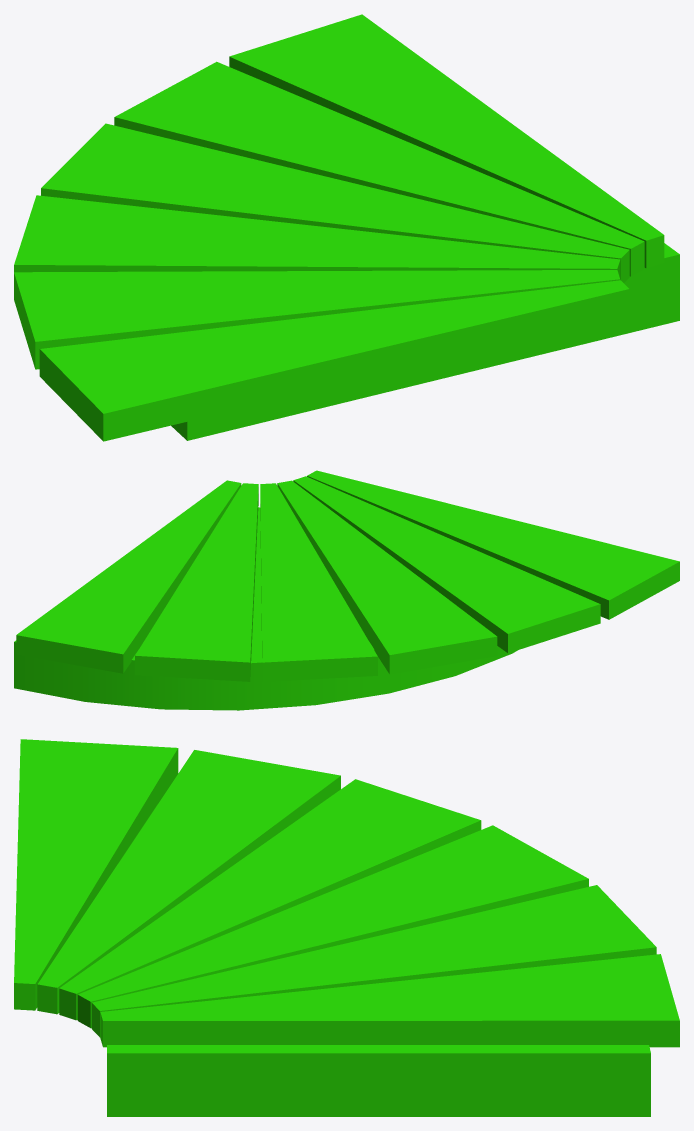
Rendered from Conveyor_Belt_01_Turn_Lod0.fbx.
3 views of the same model, one above another, from view 1: azimuth 30°, elevation 25°; view 2: azimuth 150°, elevation 25°; view 3: azimuth 270°, elevation 25° (orthographic). The views are drawn at different scales.
Visible parts, largest first — view 1: Conveyor_Belt_01_Turn_Lod0; view 2: Conveyor_Belt_01_Turn_Lod0; view 3: Conveyor_Belt_01_Turn_Lod0.
Boxes of the visible parts, bbox=[...] form: Conveyor_Belt_01_Turn_Lod0: bbox=[14, 14, 679, 441]; Conveyor_Belt_01_Turn_Lod0: bbox=[14, 470, 679, 710]; Conveyor_Belt_01_Turn_Lod0: bbox=[14, 739, 679, 1116].
Bounding box in the file's own units: 159 × 22.34 × 154.
